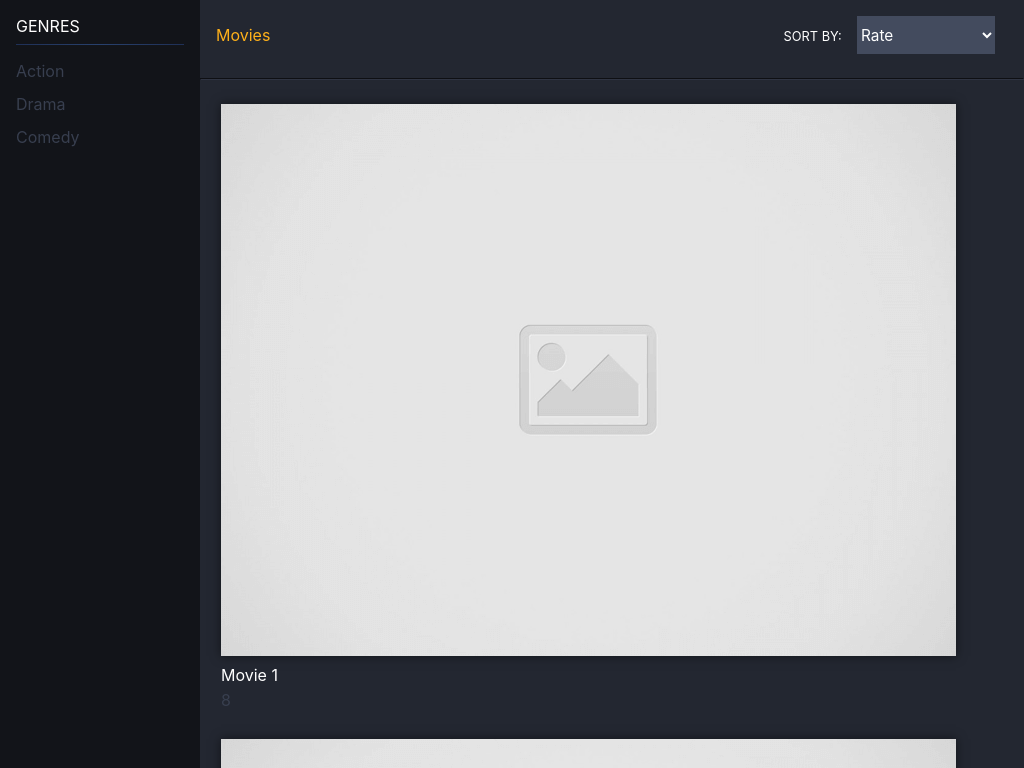
Test: Container › sorts the movies by rating
The width and height of the screenshot is (1024, 768).
Expected: the text "Movie 1" is shown, [221,665,278,685]
Select "Rate" in the dropdown with test id "select" at (926, 35), box [857,16,995,54]
(page scrolled)
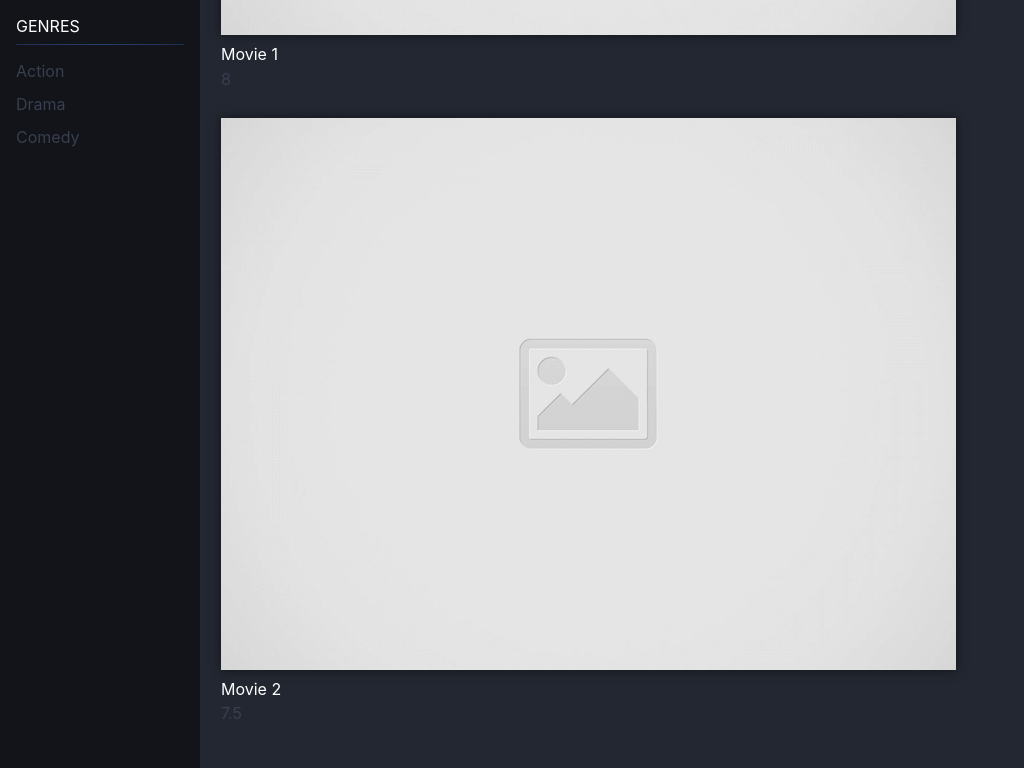
Expected: the text "Movie 1" is shown, [221,44,278,64]
Expected: the text "Movie 2" is shown, [221,679,281,699]
